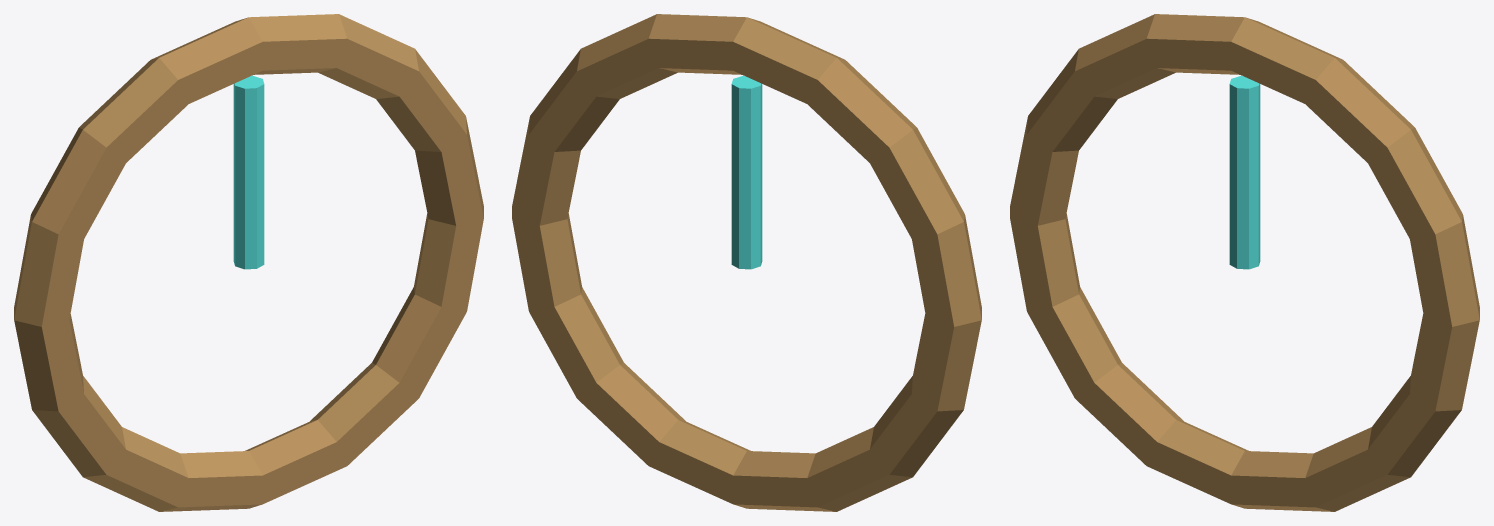
File: SH10_ClockLancet.fbx
3 views of the same model, side by side, from view 1: azimuth 30°, elevation 25°; view 2: azimuth 150°, elevation 25°; view 3: azimuth 330°, elevation 25° (orthographic).
Parts seen in each view (by area): view 1: SH10_ClockLancet; view 2: SH10_ClockLancet; view 3: SH10_ClockLancet.
Part boxes in pixels (x1,y1,x2,y2): SH10_ClockLancet: [14, 14, 483, 511]; SH10_ClockLancet: [512, 14, 981, 511]; SH10_ClockLancet: [1010, 14, 1479, 511].
Bounding box in the file's own units: 68 × 68 × 6.93.
